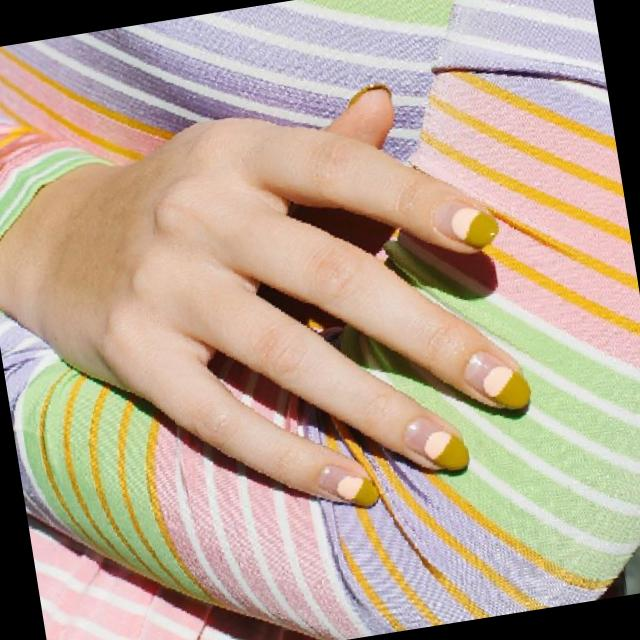Nail: (464, 354, 531, 407), (404, 417, 470, 469), (320, 465, 379, 506), (451, 208, 497, 247)
